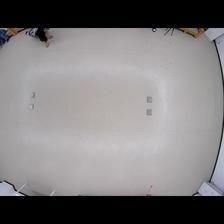fall: (24, 27, 54, 46)
